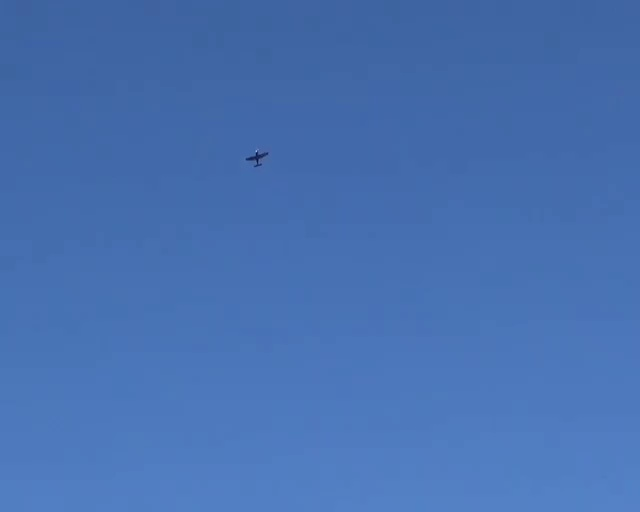AIRPLANE: (245, 148, 269, 167)
